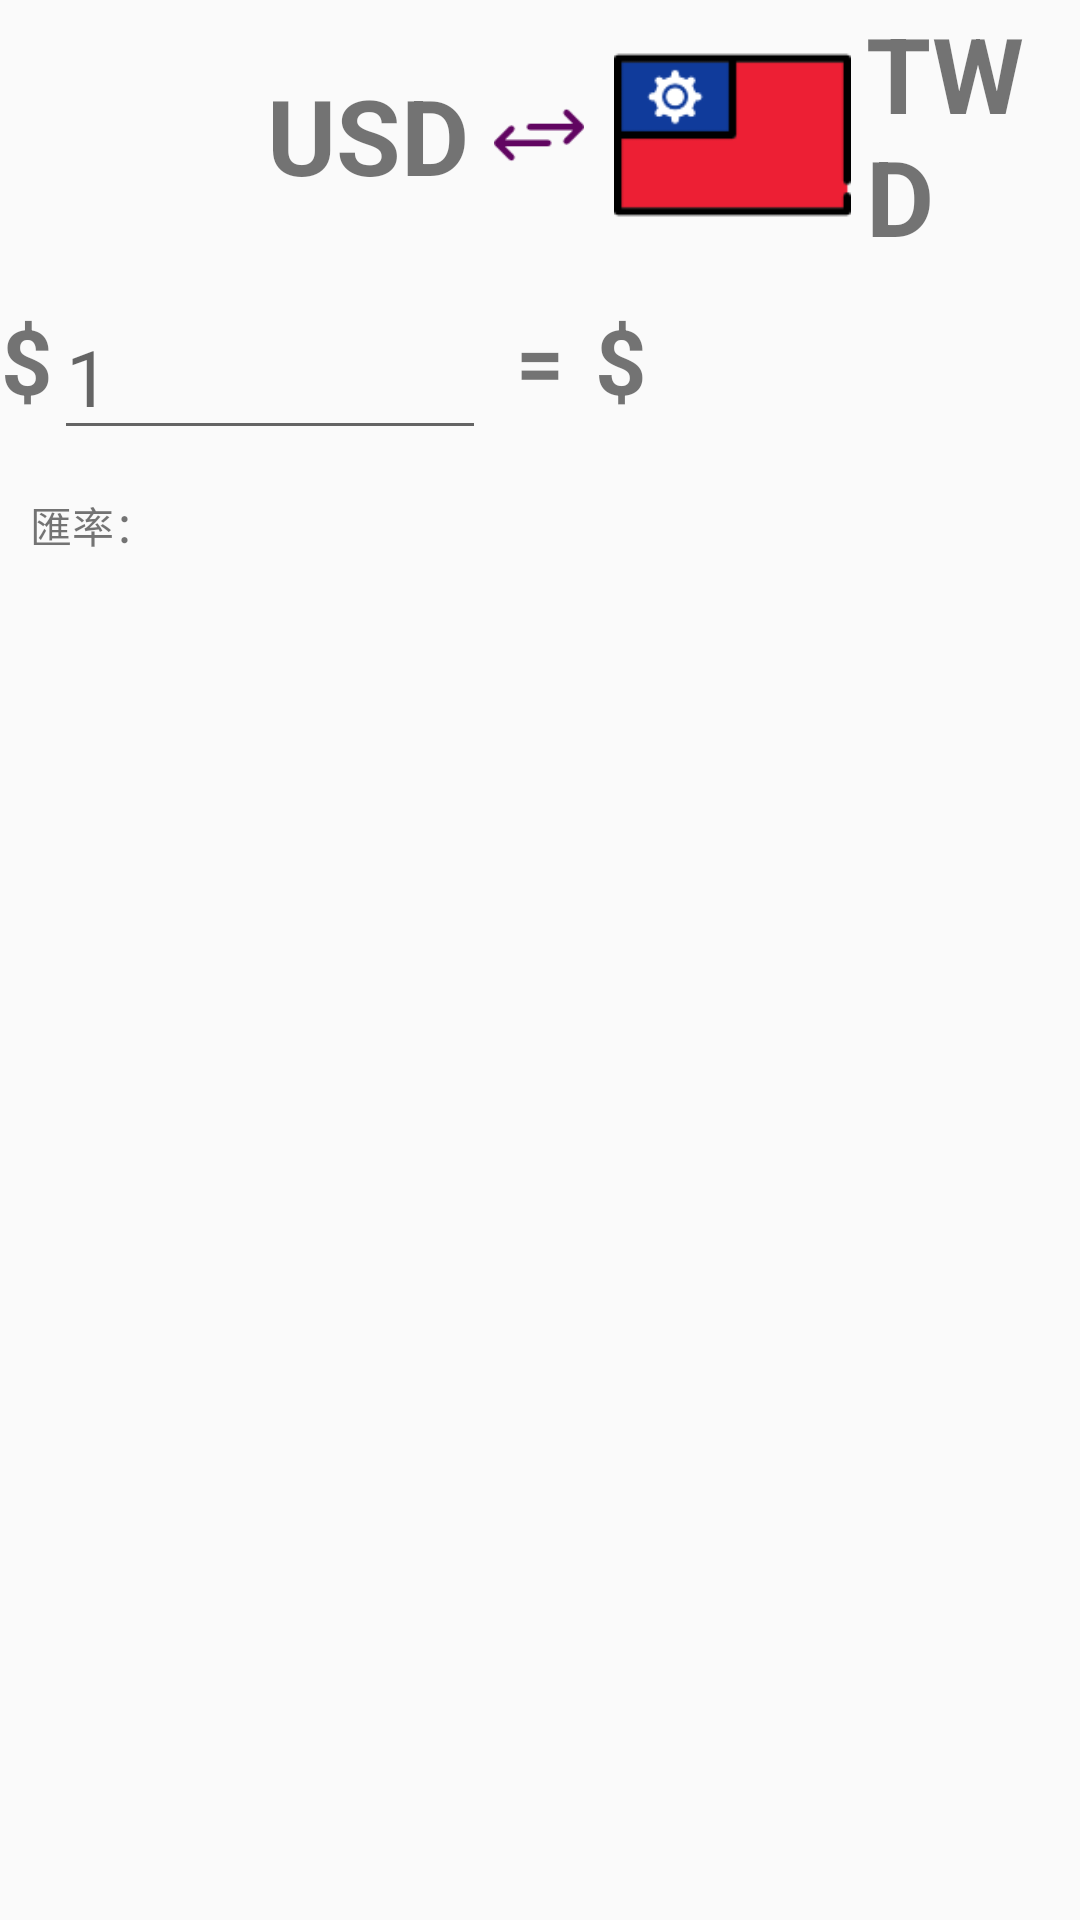

Icon click points for this 1080 × 1920 phone screenshot, format (x,y):
change: (539,135)
flag twd: (732,135)
